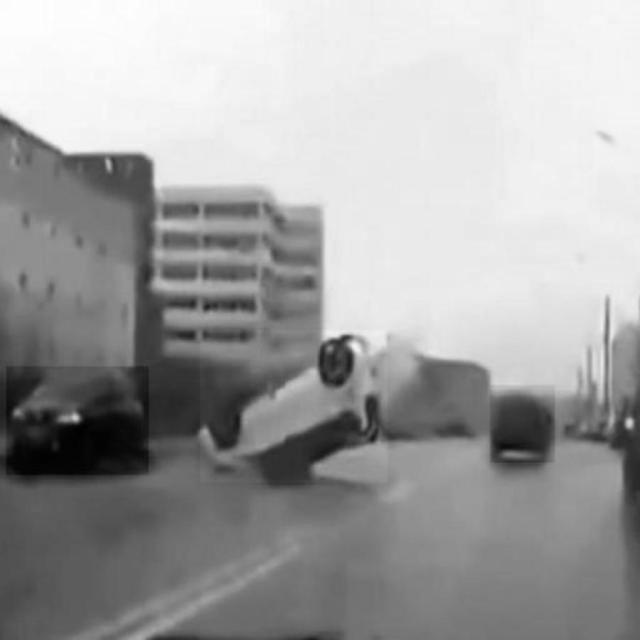vehicle: (200, 330, 387, 482), (7, 367, 149, 475), (490, 386, 554, 463)
